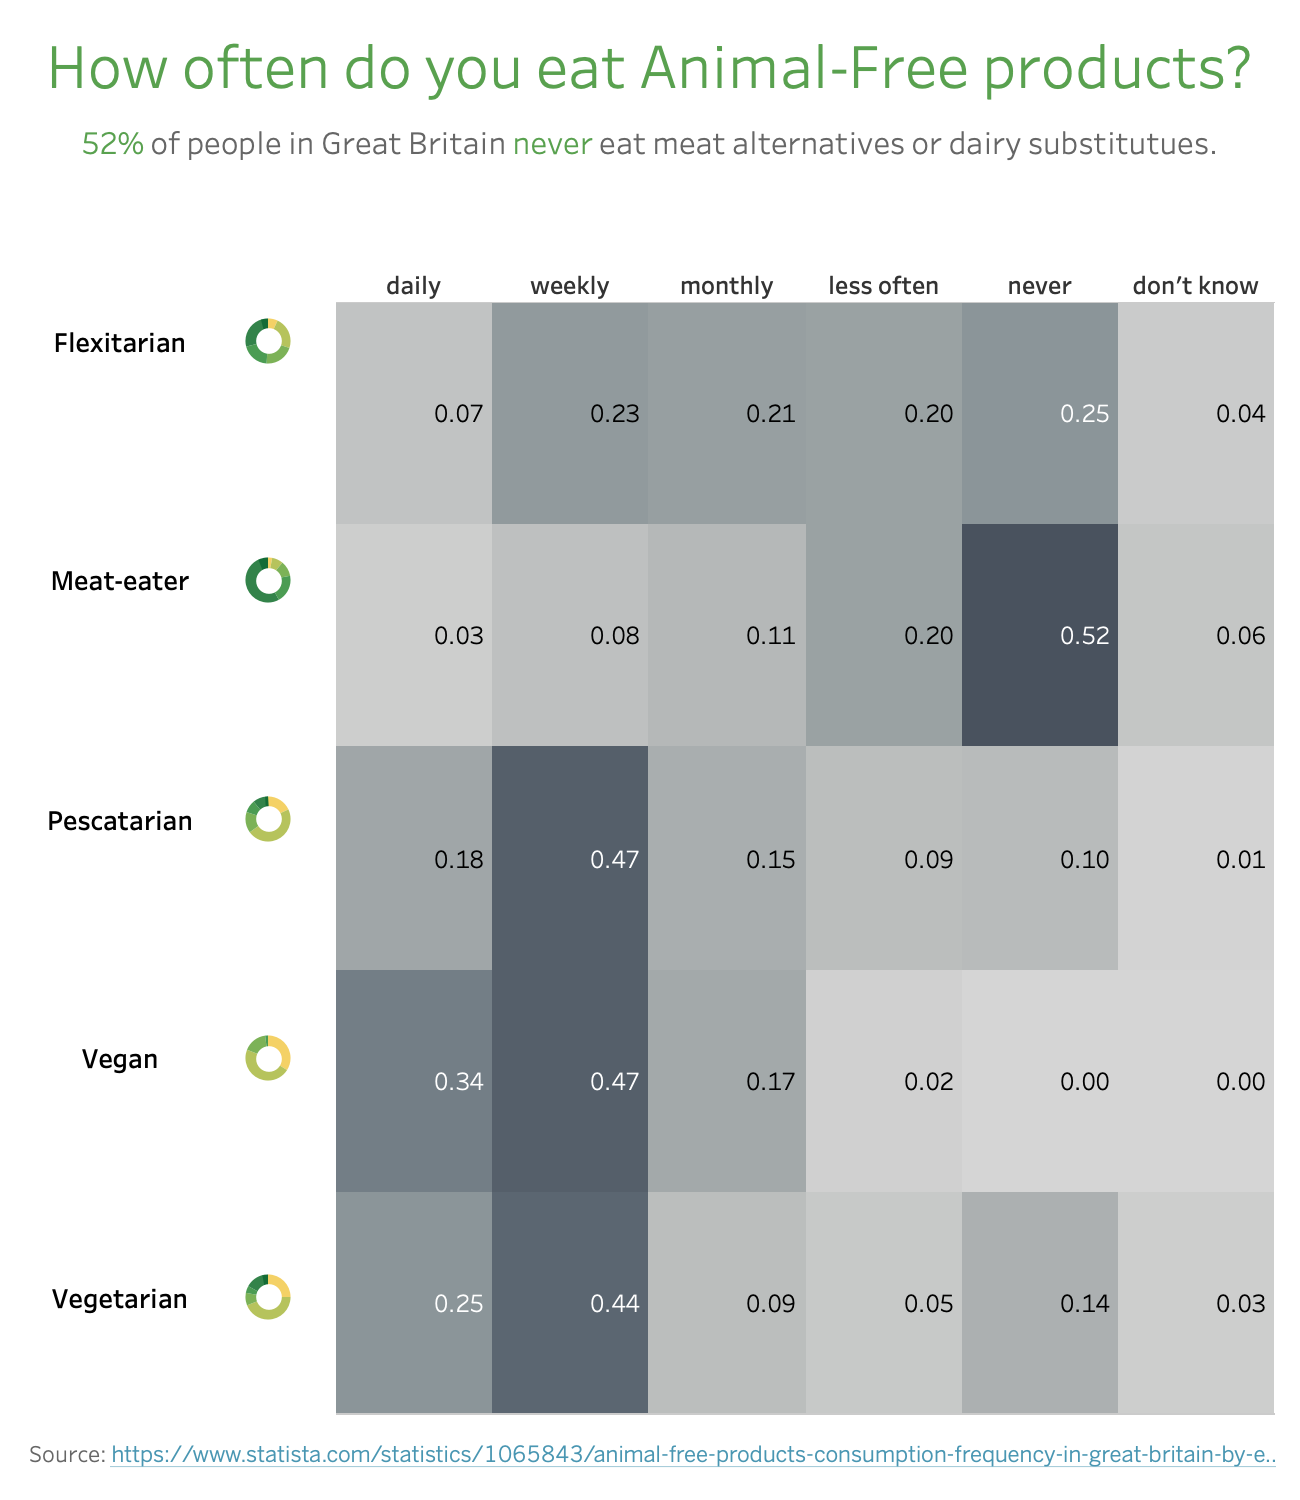

Layout of this report page (visuals, bound fields, positions):
{"tool":"tableau","page":{"name":"Animal-Free","canvas":[650,750],"ordinal":0},"visuals":[{"type":"text","box":[8,8,634,48]},{"type":"text","box":[8,57.4,634,49.4]},{"type":"worksheet","title":"Donuts","mark":"Automatic","rows":["category","Calculation_729723936897433601","Calculation_729723936897466371"],"box":[8,106.7,155.9,605.3]},{"type":"worksheet","title":"Highlight Table","mark":"Square","rows":["category"],"cols":["Frequency"],"box":[163.9,106.7,478.1,605.3]},{"type":"text","box":[8,712,634,30]}]}

Visuals, with their boxes in screenshot pixels (x1, y1, x2, y2), scaled from the page's 650x750 canvas onto the 1300x1500 screenshot:
text: locate(16, 16, 1284, 112)
text: locate(16, 115, 1284, 214)
"Donuts" worksheet: locate(16, 213, 328, 1424)
"Highlight Table" worksheet (Square marks): locate(328, 213, 1284, 1424)
text: locate(16, 1424, 1284, 1484)
